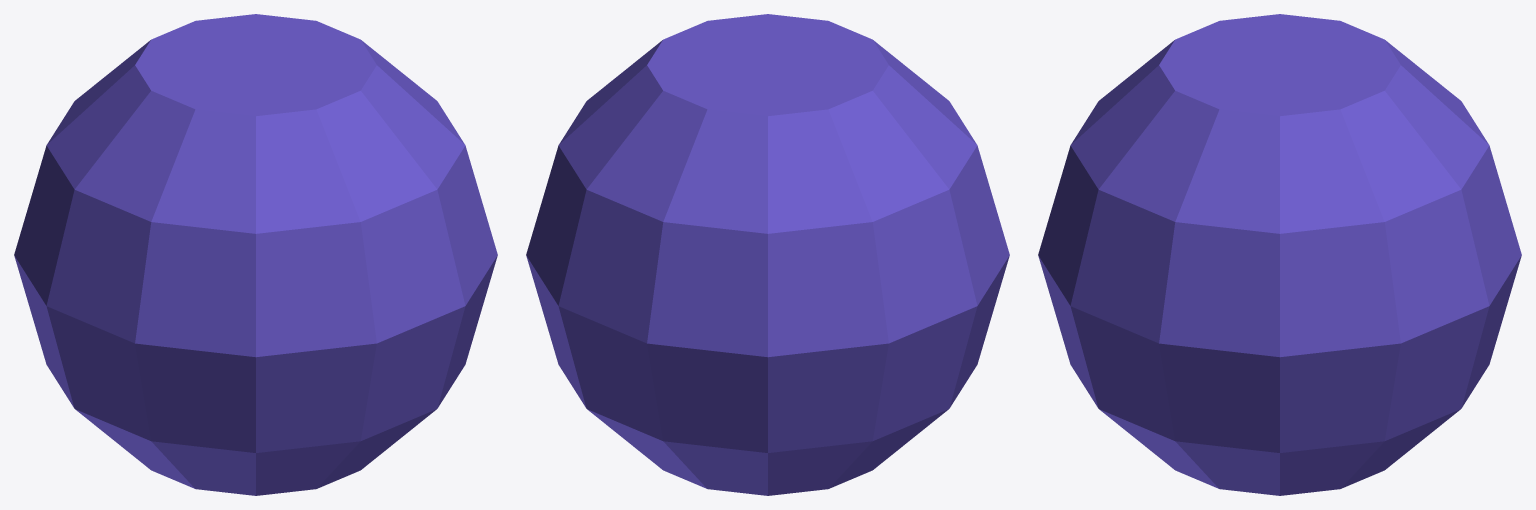
Rendered from g-orb.glb.
3 renders of one model, left to right at view 1: azimuth 30°, elevation 25°; view 2: azimuth 150°, elevation 25°; view 3: azimuth 270°, elevation 25°, orthographic.
Parts seen in each view (by area): view 1: g-orb; view 2: g-orb; view 3: g-orb.
Part boxes in pixels (x1,y1,x2,y2): g-orb: (14,14,497,495); g-orb: (526,14,1009,495); g-orb: (1038,14,1521,495).
Size of the model in its own units: 0.12 by 0.1039 by 0.12.
